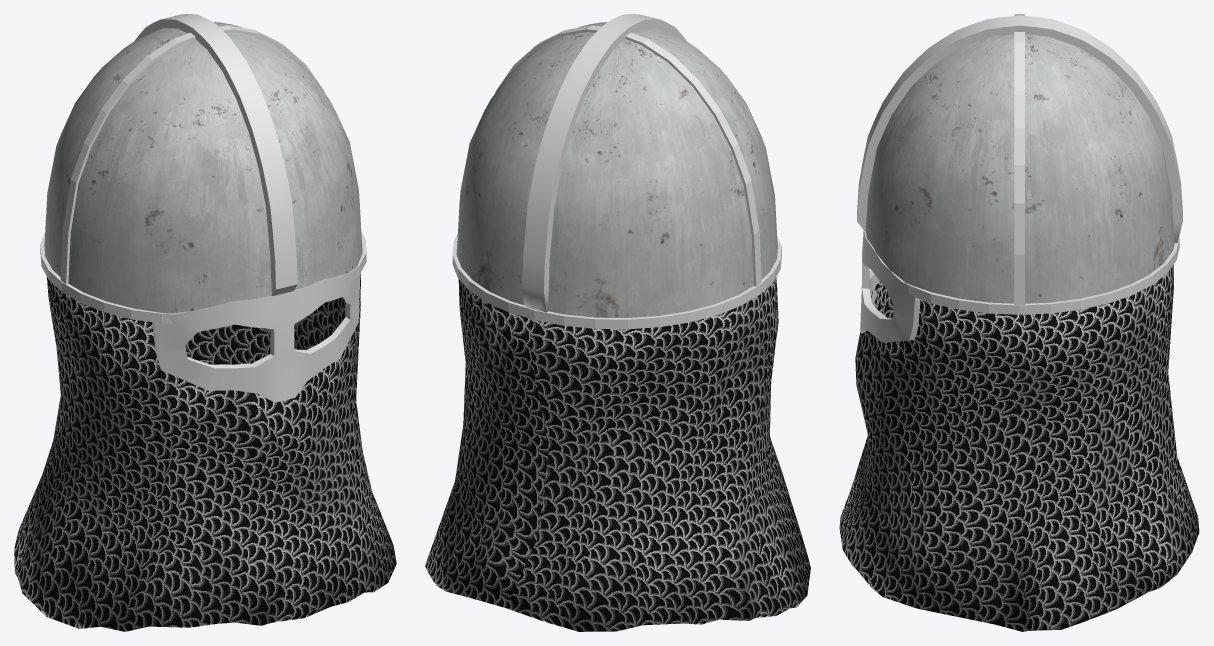
Rendered from Helmet1.fbx.
The picture shows the model from 3 angles, left to right: view 1: azimuth 30°, elevation 25°; view 2: azimuth 150°, elevation 25°; view 3: azimuth 270°, elevation 25°; orthographic projection. The views are drawn at different scales.
Visible parts, largest first — view 1: Helmet1_LOD0; view 2: Helmet1_LOD0; view 3: Helmet1_LOD0.
Boxes of the visible parts, x1,y1,x2,y2 form: Helmet1_LOD0: (14, 14, 396, 631); Helmet1_LOD0: (425, 14, 810, 631); Helmet1_LOD0: (839, 14, 1199, 631).
Size of what is drawn, in the model's own units: 18.18 by 28.32 by 17.27.
